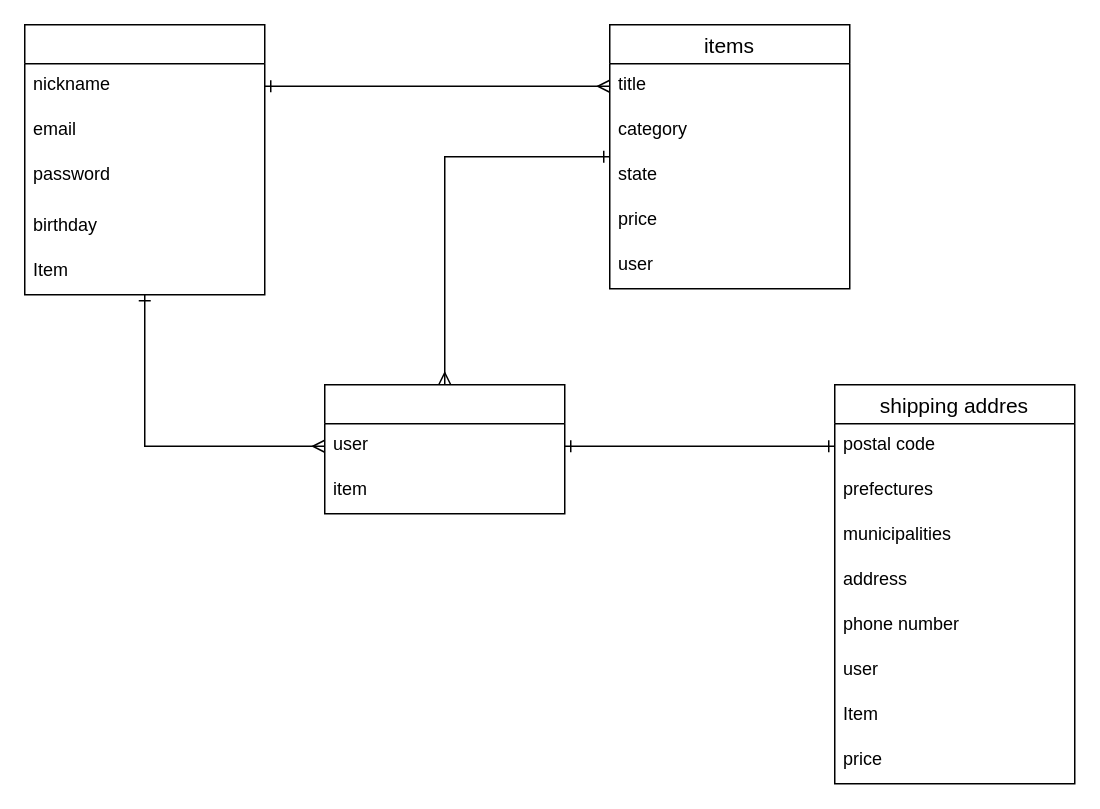
The diagram is 1100 pixels wide and 809 high, and some of its shapes have lost their labels. The shapes that lost their labels are listed below. From the top down, each one's box as (x1, y1, x2, y2) in pixels, then its label:
(23, 23, 265, 295): users
(323, 383, 565, 514): order
